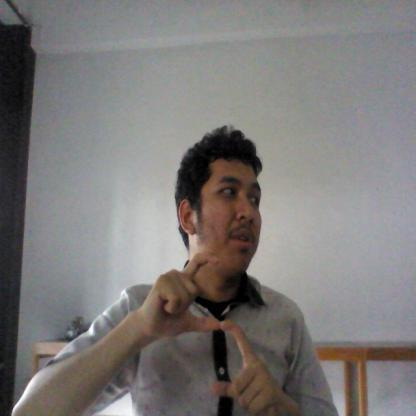S: (144, 252, 274, 414)
